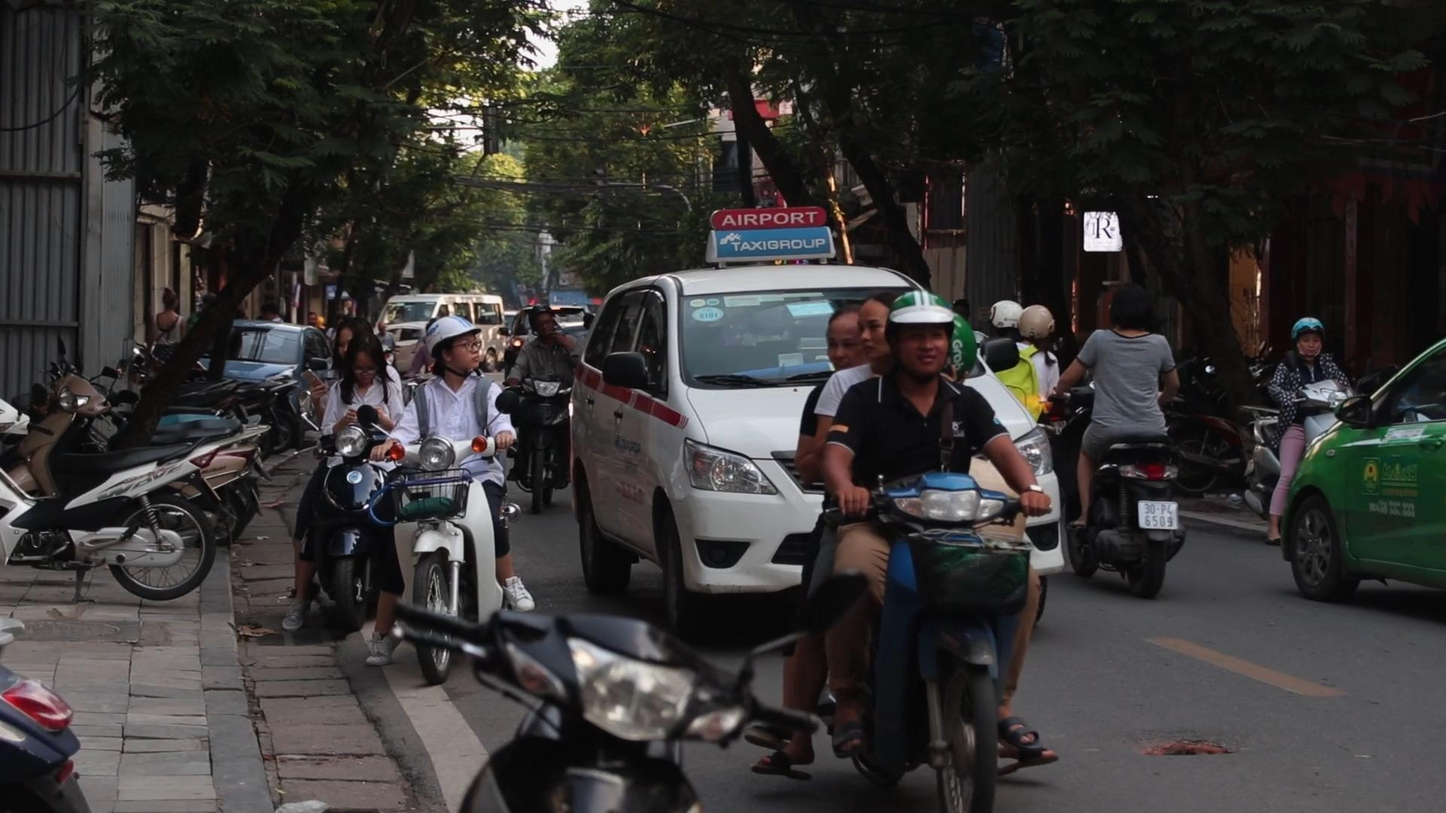driver: (750, 288, 1059, 813), (365, 316, 535, 683), (1038, 283, 1186, 600), (282, 316, 406, 631), (1242, 317, 1355, 547), (501, 303, 573, 514)
helmet: (885, 290, 955, 383), (425, 316, 482, 379), (1018, 304, 1055, 345), (1291, 317, 1325, 357), (988, 300, 1023, 337), (529, 303, 556, 337)
no-helmet: (826, 305, 869, 372), (858, 294, 896, 358), (1109, 283, 1154, 331), (347, 332, 384, 385), (333, 316, 374, 363)
